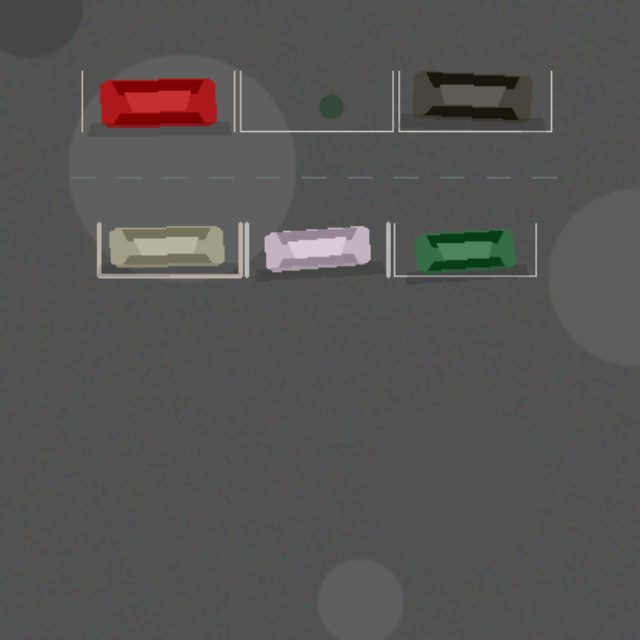space-empty: (240, 71, 392, 131)
space-occupied: (398, 71, 551, 131), (82, 71, 234, 131), (98, 223, 240, 275), (246, 223, 388, 275), (394, 223, 535, 275)
